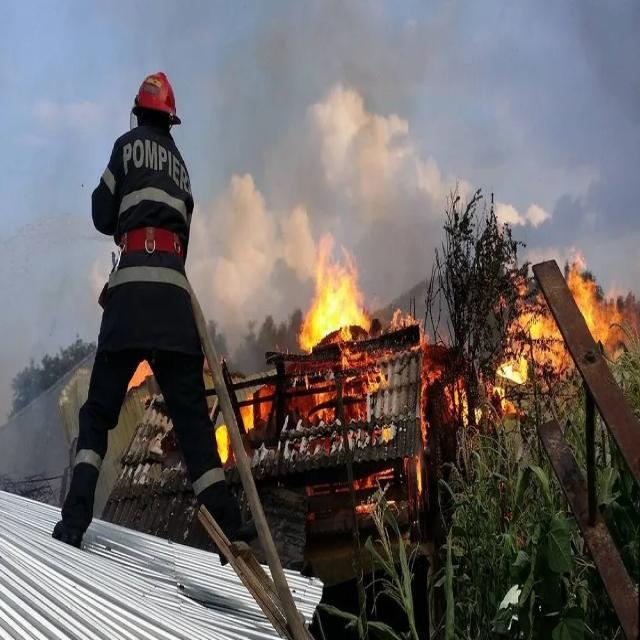Fire: (284, 244, 372, 356), (567, 252, 628, 372), (504, 282, 568, 390)
Smoke: (195, 0, 501, 276)
